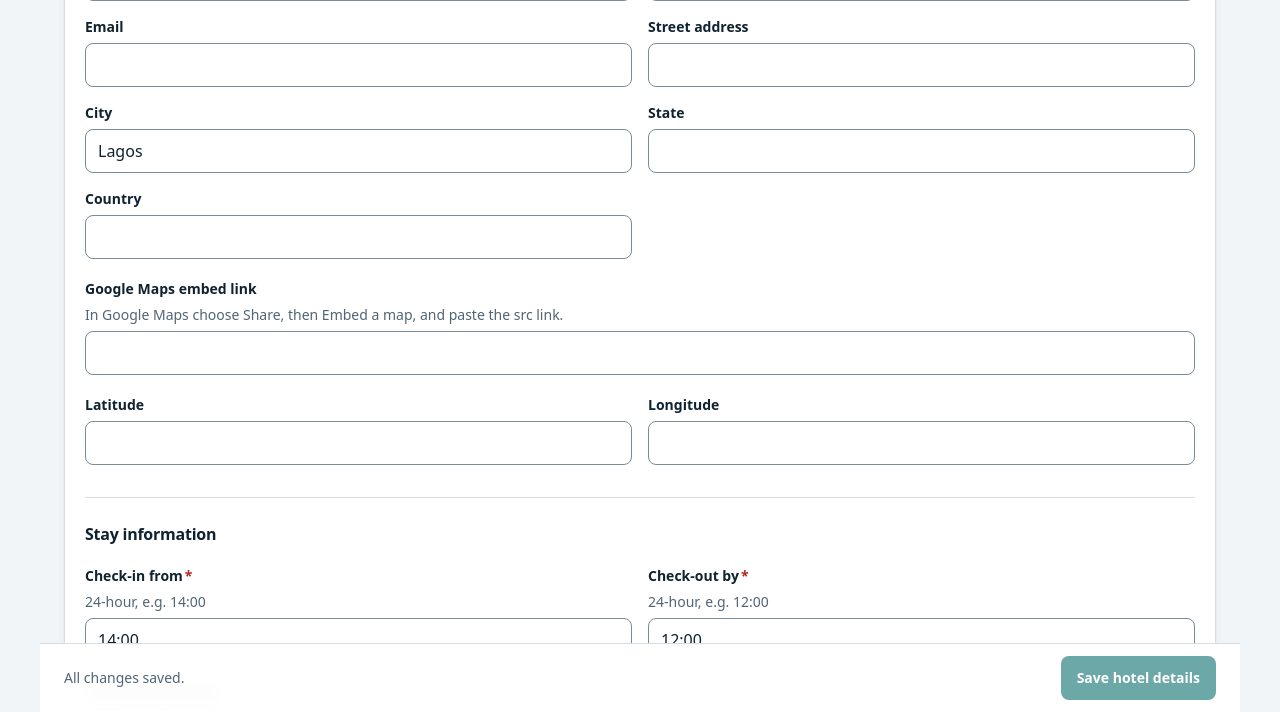
Test: hotel details form › Google Maps embed link: shows a clear message and sends nothing
This screenshot has width=1280, height=712.
(page scrolled)
Type "https://evil.com/maps/embed" into the field labelled "Google Maps embed link".
click(640, 353); type("https://evil.com/maps/embed")  # box x1=85 y1=331 x2=1195 y2=375
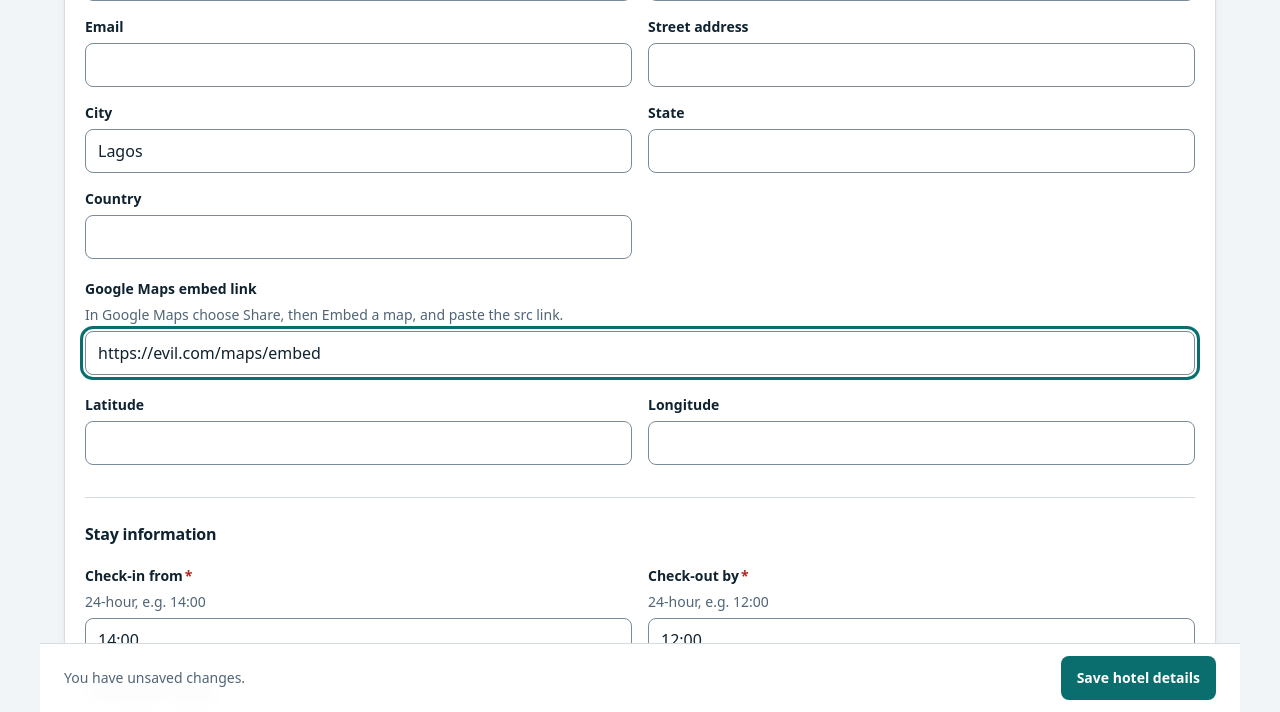
Click the button "Save hotel details".
click(1138, 678)  # box x1=1061 y1=656 x2=1216 y2=700
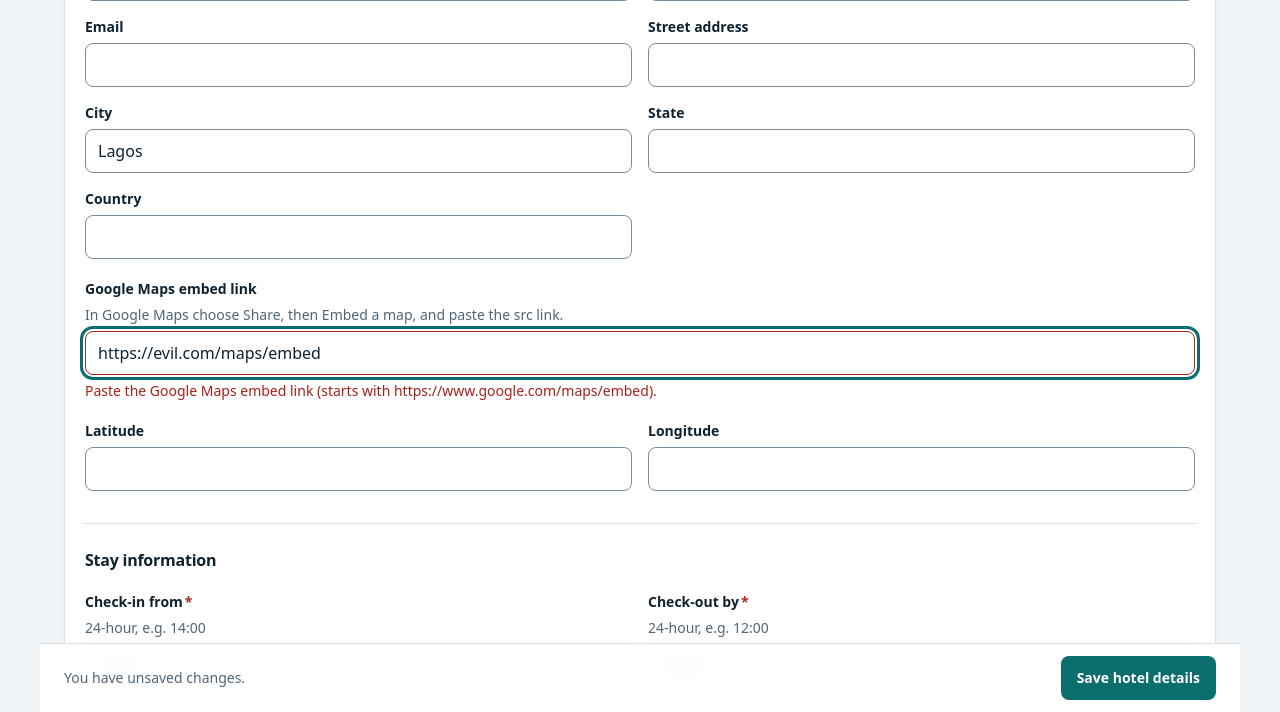
Now the text "Paste the Google Maps embed link" is shown, box x1=85 y1=381 x2=657 y2=400
